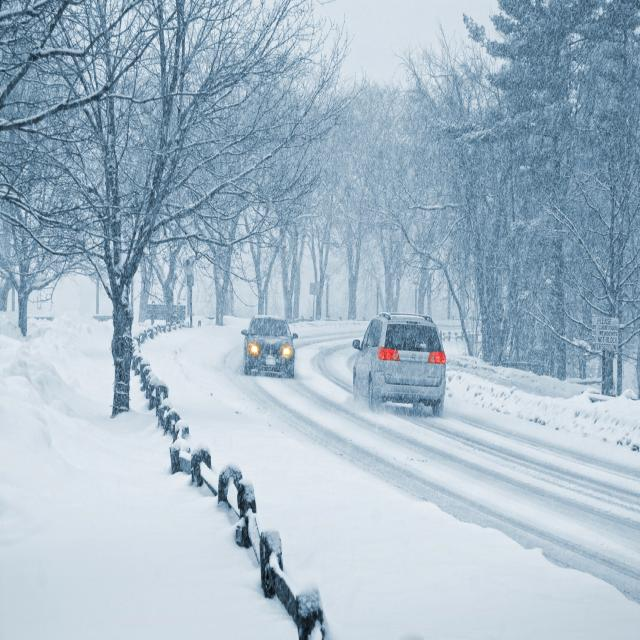car: (350, 312, 448, 414), (240, 311, 299, 379)
